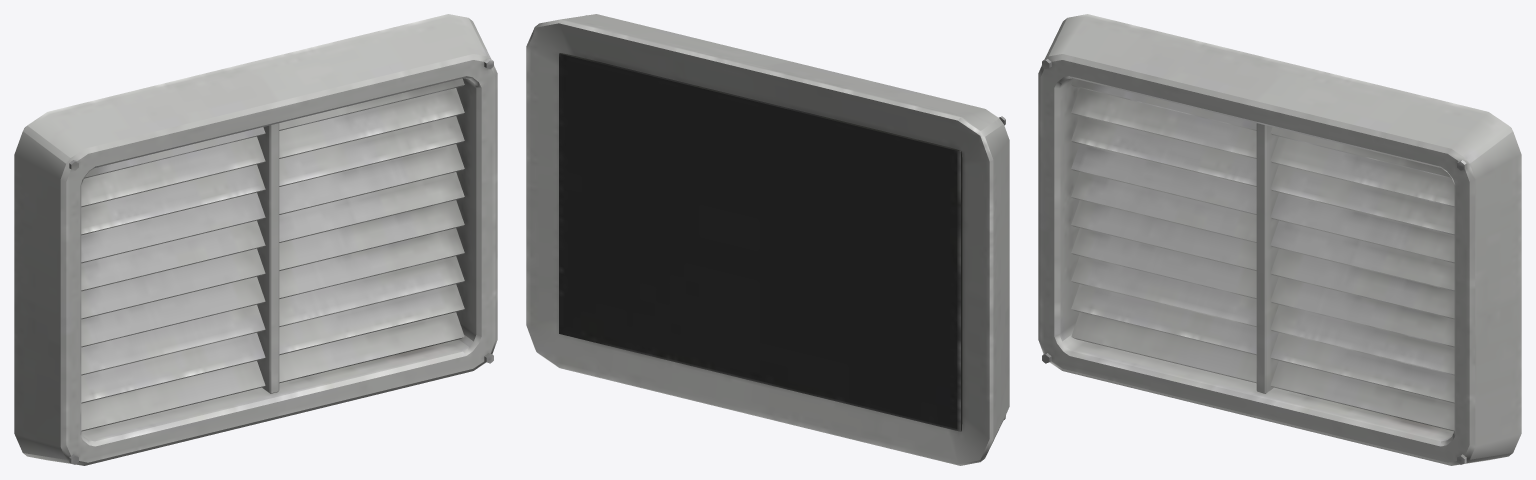
The model's file is vent.glb.
3 renders of one model, left to right at view 1: azimuth 30°, elevation 25°; view 2: azimuth 150°, elevation 25°; view 3: azimuth 330°, elevation 25°, orthographic.
Visible parts, largest first — view 1: vent; view 2: vent; view 3: vent.
Part boxes in pixels (x1=…): vent: x1=14, y1=14, x2=497, y2=465; vent: x1=526, y1=14, x2=1009, y2=465; vent: x1=1038, y1=14, x2=1521, y2=465.
Bounding box in the file's own units: 1.39 × 0.9947 × 0.1883.
1 material, 1 textured.
